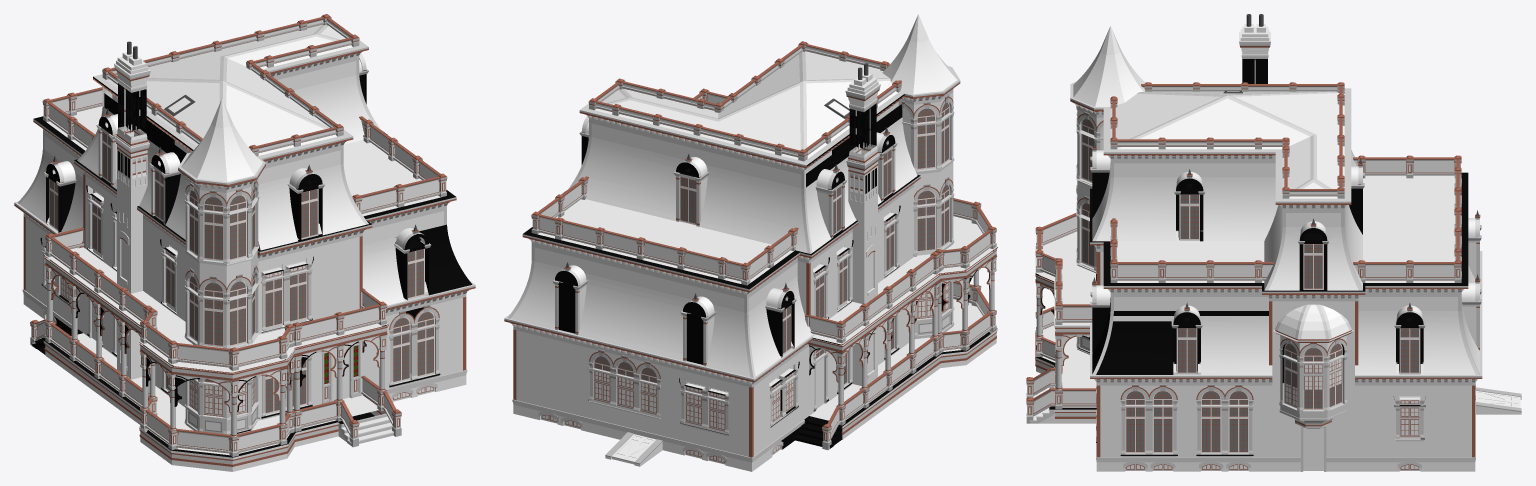
3 views of the same model, side by side, from view 1: azimuth 30°, elevation 25°; view 2: azimuth 150°, elevation 25°; view 3: azimuth 270°, elevation 25° (orthographic). The views are drawn at different scales.
Visible parts, largest first — view 1: Second Floor_001, Layer0_001, Third Floor_001, Roof_001, Double Tall Window Frame Exterior_002, Tall Window_025, Tall Window_021, Tall Window_022, Tall Window_013, Tall Window_005, Tall Window_012, Tall Window_011 (+5 smaller); view 2: Third Floor_001, Second Floor_001, Layer0_001, Roof_001, Tall Window_029, Tall Window_034, Window_003, Window_005; view 3: Third Floor_001, Second Floor_001, Layer0_001, Roof_001, Double Tall Window Frame Exterior_003, Double Tall Window Frame Exterior_004, Tall Window_033, Tall Window_030, Tall Window_008, Tall Window_031, Tall Window_010, Tall Window_009 (+5 smaller).
Boxes of the visible parts, box(x1,y1,x2,y2) form: Second Floor_001: box(14, 129, 475, 380); Layer0_001: box(22, 213, 467, 471); Third Floor_001: box(33, 53, 456, 275); Roof_001: box(93, 14, 368, 189); Double Tall Window Frame Exterior_002: box(389, 304, 440, 388); Tall Window_025: box(203, 213, 223, 261); Tall Window_021: box(203, 299, 223, 347); Tall Window_022: box(301, 188, 318, 239); Tall Window_013: box(407, 248, 424, 299); Tall Window_005: box(393, 333, 410, 383); Tall Window_012: box(290, 272, 307, 322); Tall Window_011: box(265, 278, 282, 328); Third Floor_001: box(522, 88, 954, 294); Second Floor_001: box(504, 171, 997, 384); Layer0_001: box(512, 256, 997, 471); Roof_001: box(579, 14, 960, 170); Tall Window_029: box(917, 124, 935, 170); Tall Window_034: box(679, 176, 696, 225); Window_003: box(593, 371, 610, 403); Window_005: box(708, 399, 725, 431); Third Floor_001: box(1076, 106, 1468, 298); Second Floor_001: box(1035, 179, 1482, 390); Layer0_001: box(1026, 263, 1521, 471); Roof_001: box(1070, 14, 1351, 208); Double Tall Window Frame Exterior_003: box(1120, 384, 1177, 457); Double Tall Window Frame Exterior_004: box(1196, 384, 1253, 457); Tall Window_033: box(1399, 328, 1420, 374); Tall Window_030: box(1176, 328, 1197, 374); Tall Window_008: box(1152, 407, 1173, 453); Tall Window_031: box(1179, 194, 1199, 240); Tall Window_010: box(1228, 407, 1248, 453); Tall Window_009: box(1201, 407, 1221, 453).
Size of the model in its own units: 646 by 646 by 864.
